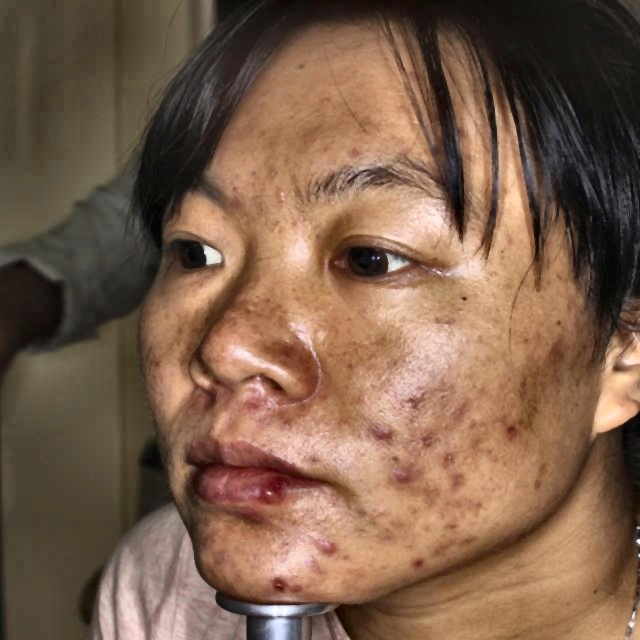pustule: (260, 563, 308, 598), (518, 462, 554, 493), (314, 532, 347, 562), (450, 529, 481, 557), (402, 380, 429, 411), (366, 418, 398, 444), (450, 469, 478, 495), (494, 418, 522, 444), (378, 471, 419, 488), (405, 548, 429, 576), (443, 446, 462, 464)
